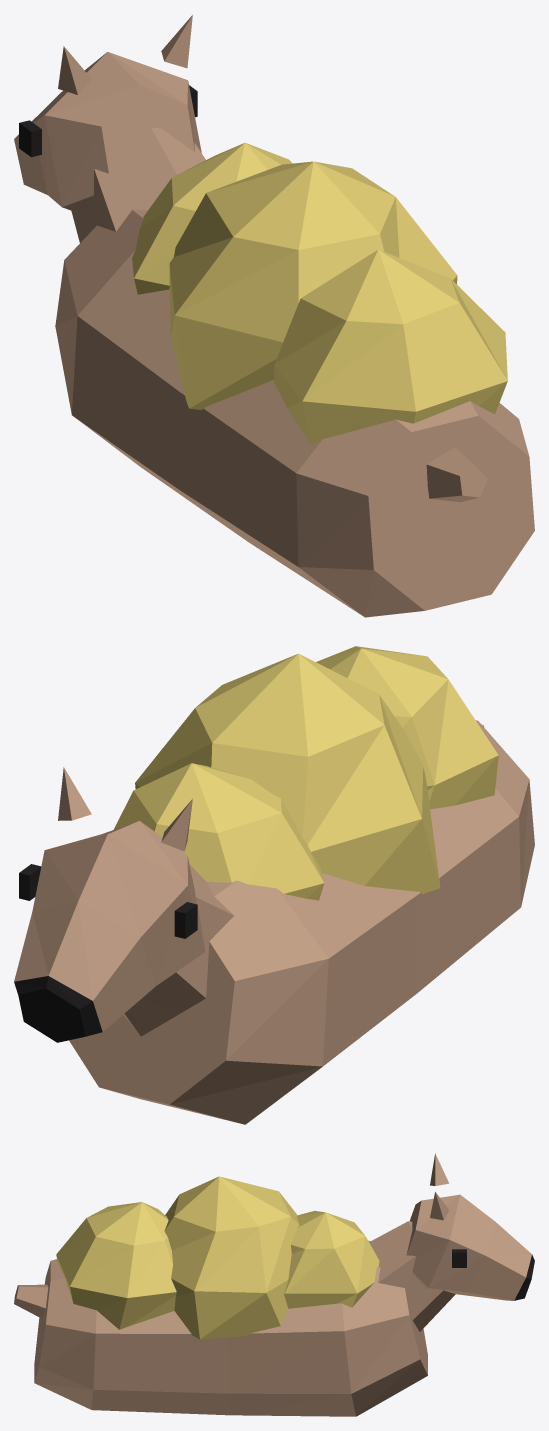
File: animal_boomalope.obj
3 renders of one model, top to bottom at view 1: azimuth 30°, elevation 25°; view 2: azimuth 150°, elevation 25°; view 3: azimuth 270°, elevation 25°, orthographic. The views are drawn at different scales.
Visible parts, largest first — view 1: animal_boomalope; view 2: animal_boomalope; view 3: animal_boomalope.
Boxes of the visible parts, x1,y1,x2,y2 form: animal_boomalope: (14, 15, 534, 617); animal_boomalope: (14, 646, 534, 1124); animal_boomalope: (14, 1153, 534, 1416).
Bounding box in the file's own units: 0.4858 × 0.6787 × 1.4.
